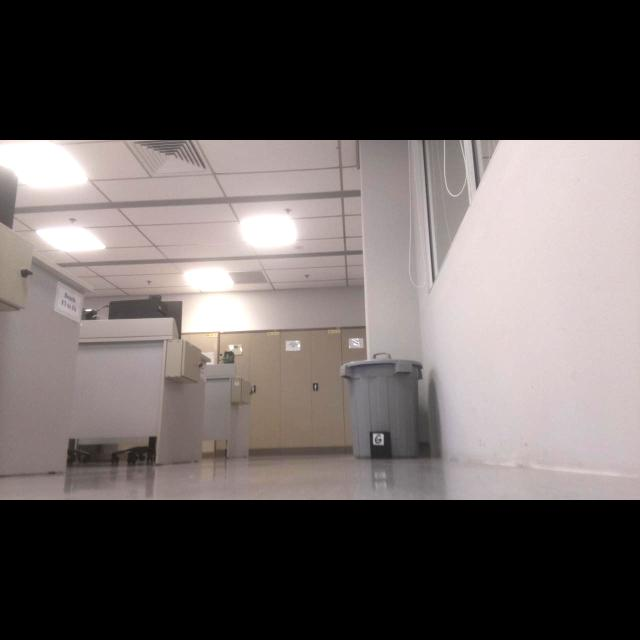G: (375, 435, 382, 444)
